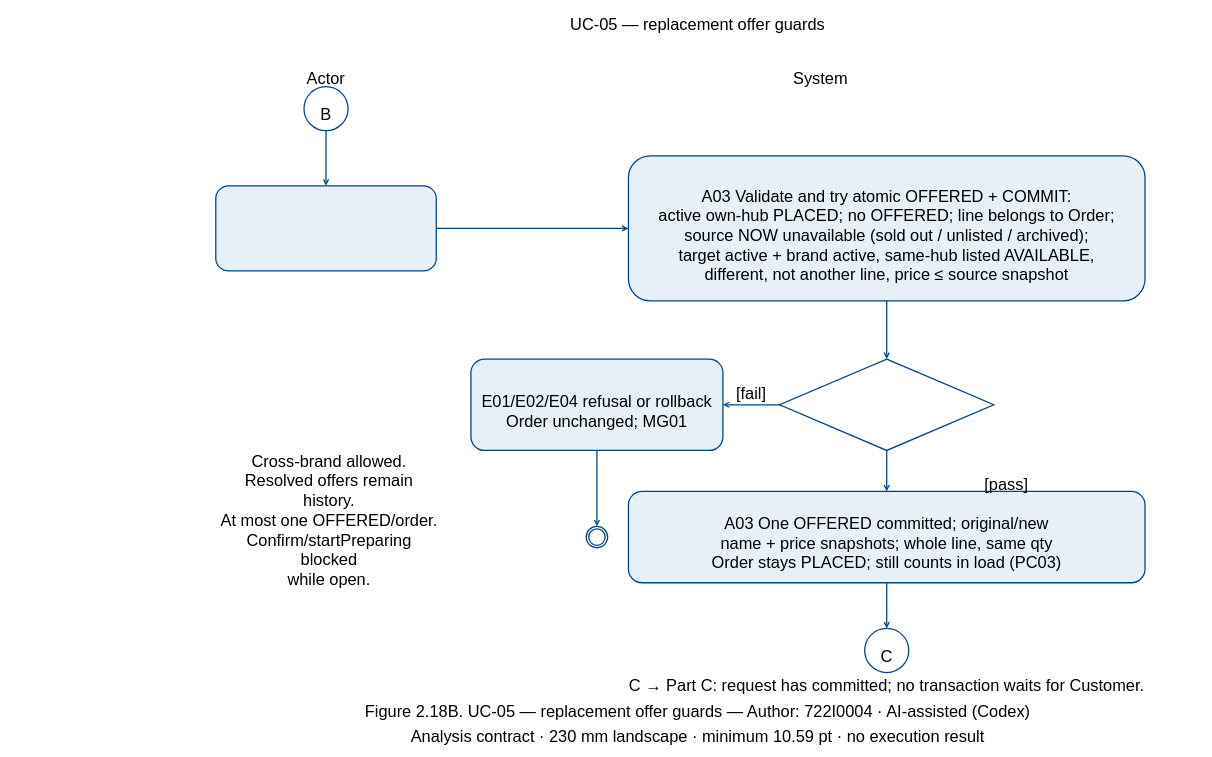
The diagram is 1212 pixels wide and 757 high, and some of its shapes have lost their labels. The shapes that lost their labels are listed below. From the top down, each one's centre as x and y in pixels, then its label:
At (326,228): "A03 choose line + target offerReplacement(...)".
At (886,404): "Guards + save pass?".
